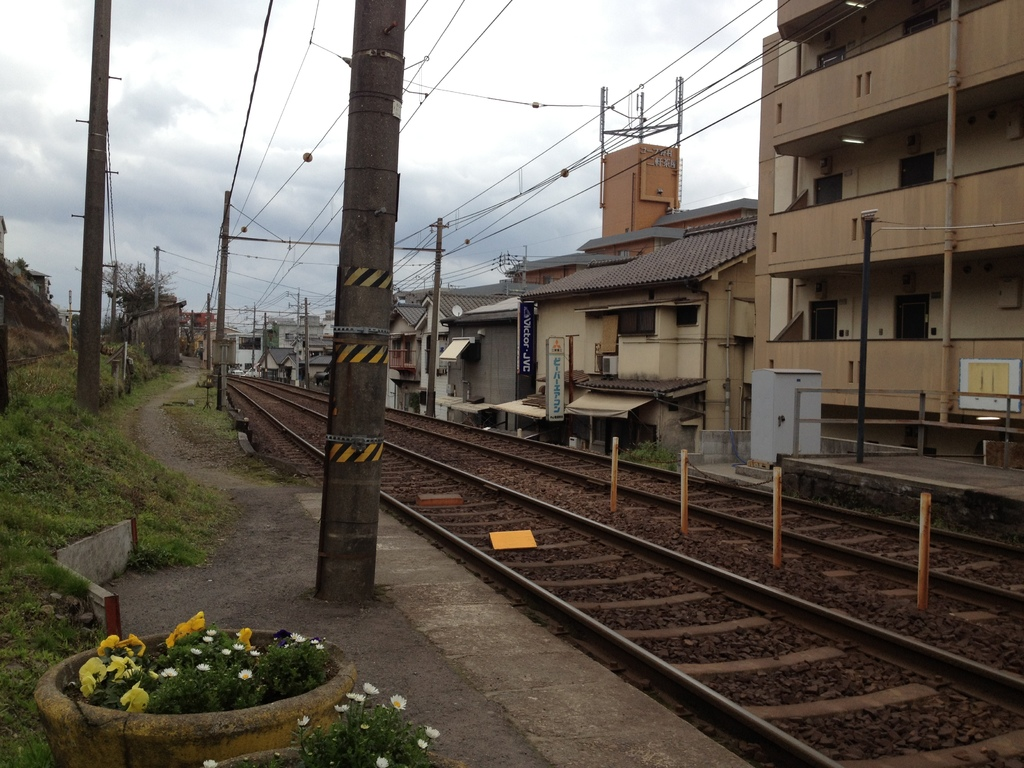Tree: (101, 259, 184, 325)
